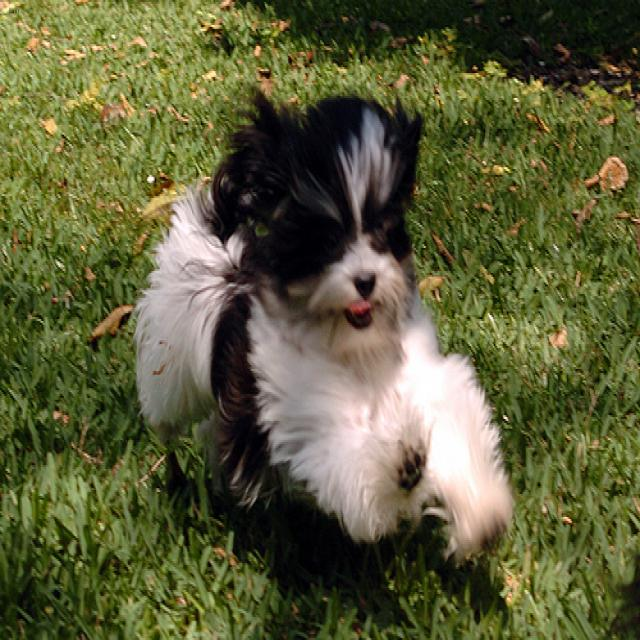dog-havanese: (123, 90, 518, 575)
